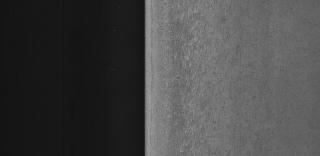silk spot: (167, 7, 261, 150)
